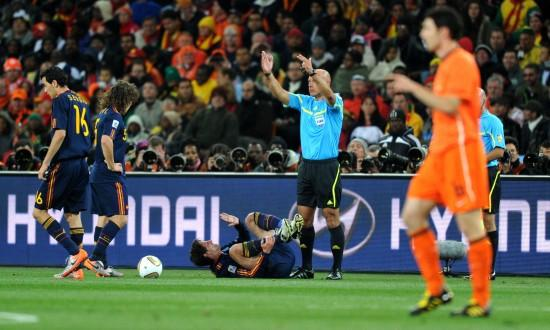down: (184, 206, 311, 289)
up: (388, 6, 502, 327), (258, 47, 348, 285), (32, 65, 96, 283), (87, 79, 142, 280), (473, 83, 507, 279)
